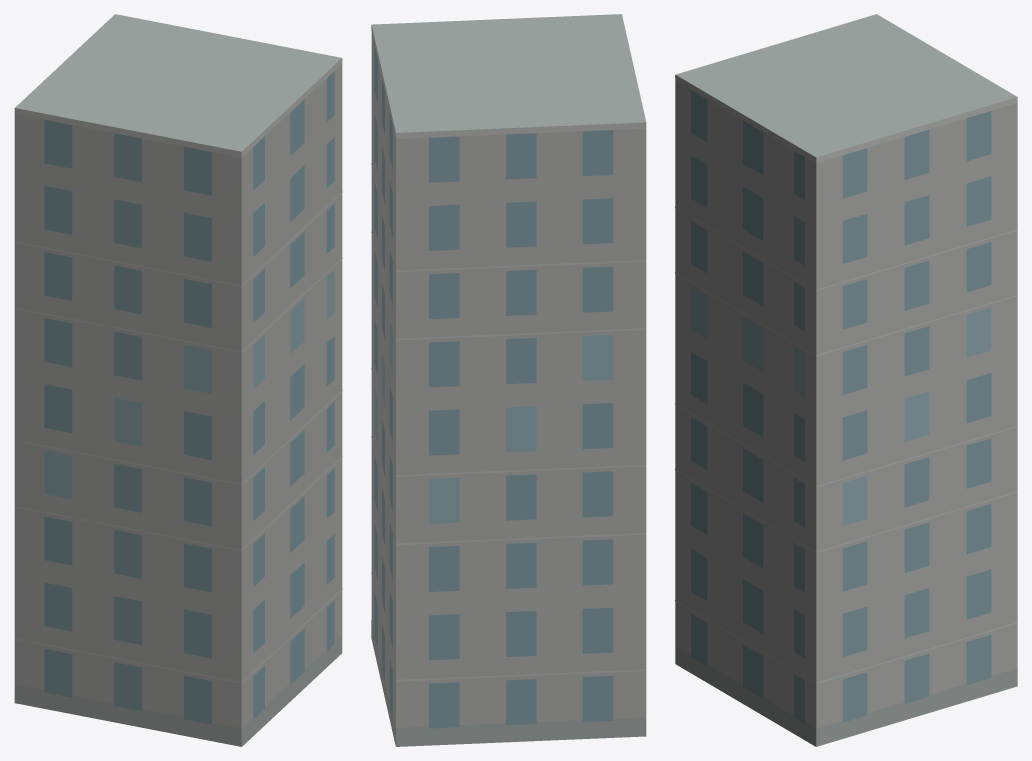
Rendered from survey-upis-33042702.glb.
The picture shows the model from 3 angles, left to right: view 1: azimuth 30°, elevation 25°; view 2: azimuth 150°, elevation 25°; view 3: azimuth 270°, elevation 25°; orthographic projection. The views are drawn at different scales.
Parts seen in each view (by area): view 1: survey-upis-33042702.tmp; view 2: survey-upis-33042702.tmp; view 3: survey-upis-33042702.tmp.
Part boxes in pixels (x1,y1,x2,y2): survey-upis-33042702.tmp: [14, 14, 342, 746]; survey-upis-33042702.tmp: [371, 14, 646, 746]; survey-upis-33042702.tmp: [675, 14, 1017, 746].
Bounding box in the file's own units: 12.55 × 24 × 12.65.
